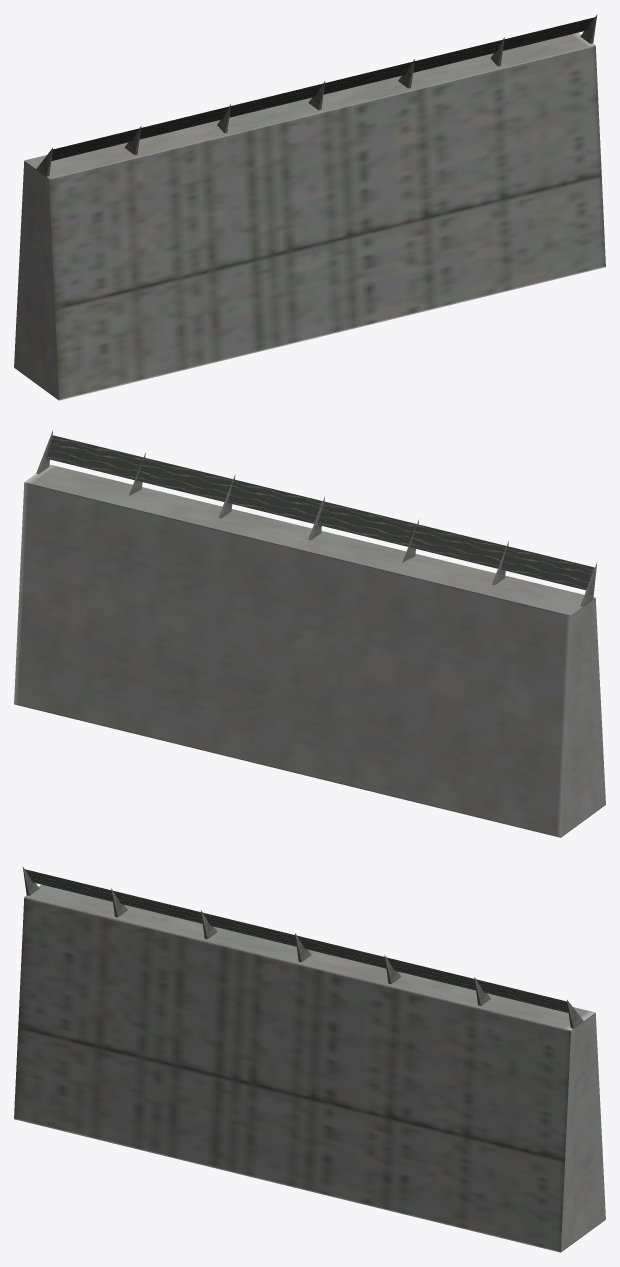
File: mun_all_military_wall_strong_impl_16_s01_l2.fbx
3 renders of one model, top to bottom at view 1: azimuth 30°, elevation 25°; view 2: azimuth 150°, elevation 25°; view 3: azimuth 330°, elevation 25°, orthographic.
Parts seen in each view (by area): view 1: mesh_node; view 2: mesh_node; view 3: mesh_node.
Part boxes in pixels (box(x1,y1,x2,y2)): mesh_node: box(14, 14, 605, 400); mesh_node: box(14, 429, 605, 837); mesh_node: box(14, 866, 605, 1252).
Size of the model in its own units: 16 by 6.93 by 2.29.
2 materials, 2 textured.
